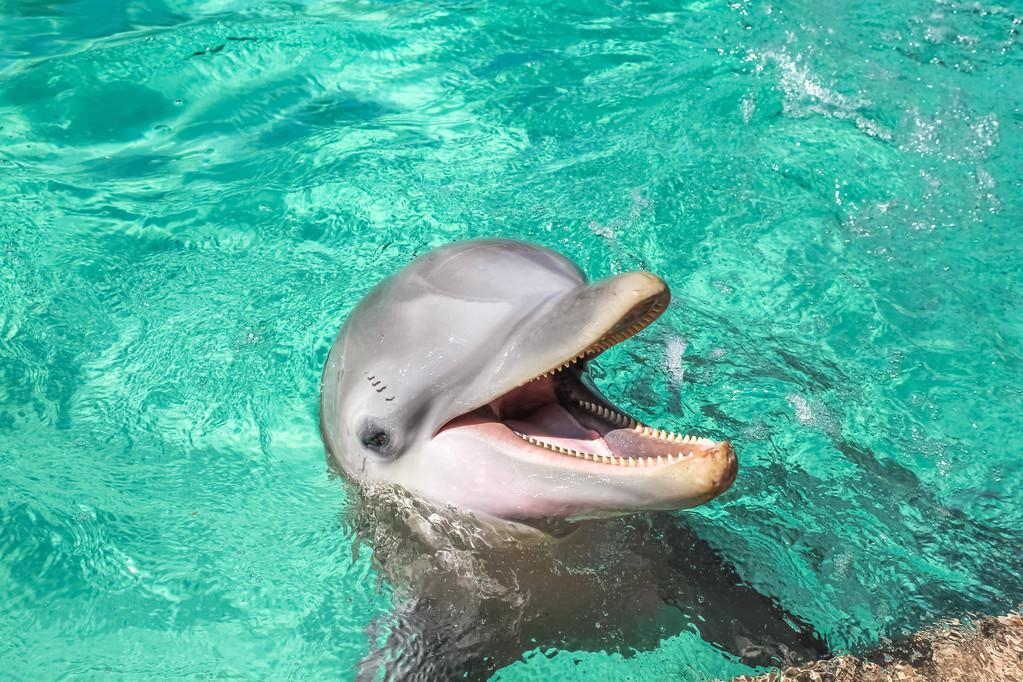fish: (303, 234, 823, 674)
